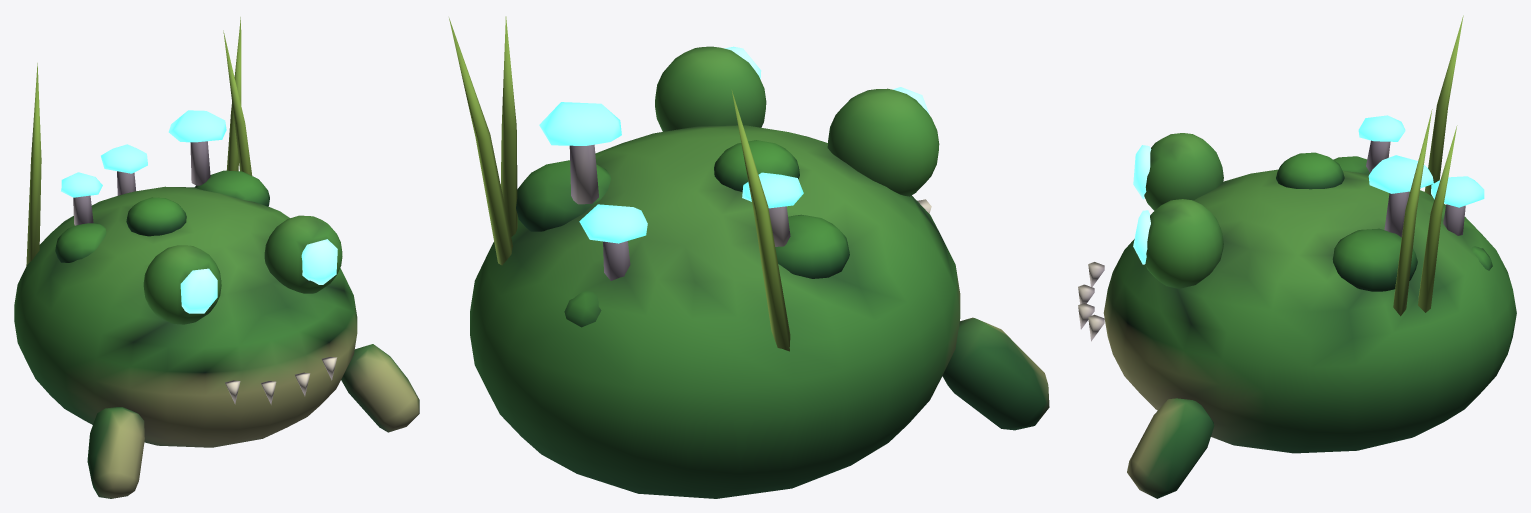
Rendered from bog.glb.
3 views of the same model, side by side, from view 1: azimuth 30°, elevation 25°; view 2: azimuth 150°, elevation 25°; view 3: azimuth 270°, elevation 25° (orthographic). The views are drawn at different scales.
Parts seen in each view (by area): view 1: bog_body, bog_arm_R, bog_arm, bog_bulb_R, bog_bulb, bog_mossclump.003, bog_reed.002, bog_mossclump, bog_cap, bog_mossclump.001, eyeR, eyeL (+6 smaller); view 2: bog_body, bog_bulb_R, bog_arm_R, bog_bulb, bog_mossclump, bog_mossclump.001, bog_reed.002, bog_reed, bog_cap, bog_mossclump.003, bog_reed.001, bog_cap.002 (+5 smaller); view 3: bog_body, bog_arm, bog_bulb, bog_bulb_R, bog_mossclump, bog_mossclump.003, bog_reed.001, bog_reed, bog_cap, bog_reed.002, bog_cap.002, bog_cap.001 (+5 smaller).
Boxes of the visible parts, left/top/right/bottom form: bog_body: left=14, top=186, right=357, bottom=447; bog_arm_R: left=87, top=407, right=144, bottom=498; bog_arm: left=341, top=344, right=419, bottom=432; bog_bulb_R: left=143, top=245, right=221, bottom=324; bog_bulb: left=264, top=215, right=342, bottom=293; bog_mossclump.003: left=126, top=197, right=186, bottom=236; bog_reed.002: left=26, top=63, right=41, bottom=265; bog_mossclump: left=195, top=170, right=269, bottom=206; bog_cap: left=168, top=110, right=226, bottom=142; bog_mossclump.001: left=55, top=223, right=106, bottom=262; eyeR: left=180, top=268, right=217, bottom=313; eyeL: left=301, top=239, right=337, bottom=284; bog_body: left=470, top=125, right=960, bottom=498; bog_bulb_R: left=827, top=88, right=939, bottom=196; bog_arm_R: left=942, top=317, right=1049, bottom=430; bog_bulb: left=655, top=46, right=766, bottom=131; bog_mossclump: left=516, top=160, right=610, bottom=231; bog_mossclump.001: left=775, top=214, right=849, bottom=278; bog_reed.002: left=731, top=90, right=790, bottom=351; bog_reed: left=449, top=18, right=512, bottom=265; bog_cap: left=539, top=102, right=621, bottom=145; bog_mossclump.003: left=714, top=140, right=799, bottom=191; bog_reed.001: left=500, top=16, right=517, bottom=236; bog_cap.002: left=579, top=204, right=647, bottom=243; bog_body: left=1103, top=169, right=1516, bottom=453; bog_arm: left=1127, top=398, right=1214, bottom=498; bog_bulb: left=1145, top=199, right=1223, bottom=288; bog_bulb_R: left=1144, top=133, right=1223, bottom=210; bog_mossclump: left=1332, top=228, right=1417, bottom=291; bog_mossclump.003: left=1276, top=152, right=1344, bottom=189; bog_reed.001: left=1393, top=109, right=1432, bottom=316; bog_reed: left=1418, top=125, right=1457, bottom=312; bog_cap: left=1368, top=155, right=1433, bottom=193; bog_reed.002: left=1424, top=15, right=1463, bottom=196; bog_cap.002: left=1431, top=176, right=1484, bottom=207; bog_cap.001: left=1358, top=115, right=1405, bottom=141.
Size of the model in its own units: 1.34 by 1.28 by 1.4.
